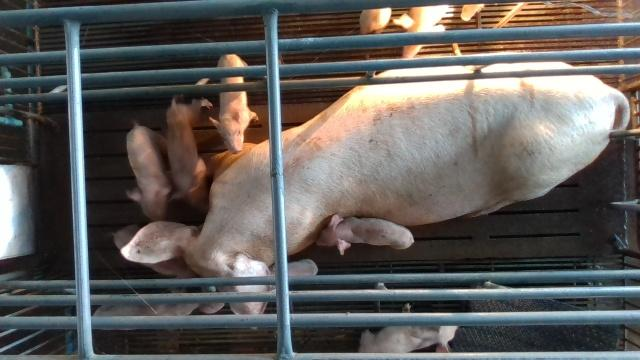piglet: (163, 94, 213, 212), (93, 273, 225, 316), (356, 302, 461, 353), (210, 53, 258, 155), (125, 119, 173, 220), (315, 212, 414, 255), (393, 4, 450, 59)
sow-sit: (121, 52, 631, 331)
